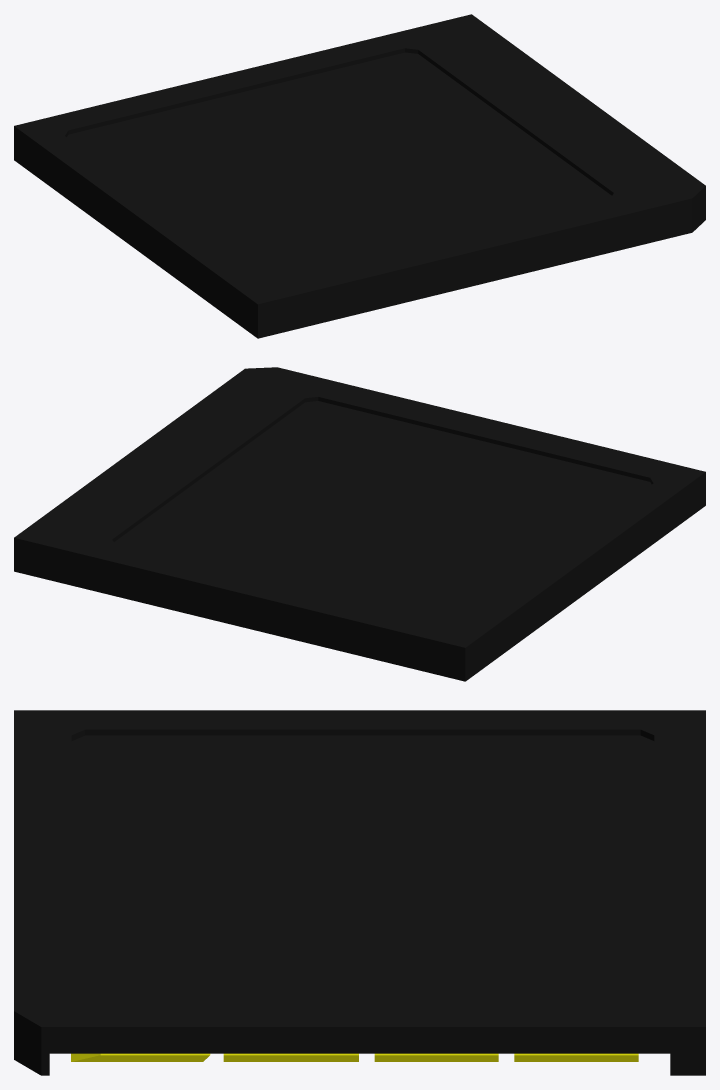
The model's file is ゲームソフト本体(画像なし).fbx.
The picture shows the model from 3 angles, top to bottom: view 1: azimuth 30°, elevation 25°; view 2: azimuth 150°, elevation 25°; view 3: azimuth 270°, elevation 25°; orthographic projection. The views are drawn at different scales.
Visible parts, largest first — view 1: pCube8; view 2: pCube8; view 3: pCube8, pCube7, pCube6, pCube4, pCube5.
Boxes of the visible parts, bbox=[...] form: pCube8: bbox=[14, 14, 705, 338]; pCube8: bbox=[14, 367, 705, 681]; pCube8: bbox=[14, 710, 705, 1075]; pCube7: bbox=[71, 1053, 210, 1061]; pCube6: bbox=[223, 1053, 358, 1061]; pCube4: bbox=[514, 1053, 638, 1061]; pCube5: bbox=[374, 1053, 498, 1061].
Bounding box in the file's own units: 1.08 × 0.0776 × 1.
